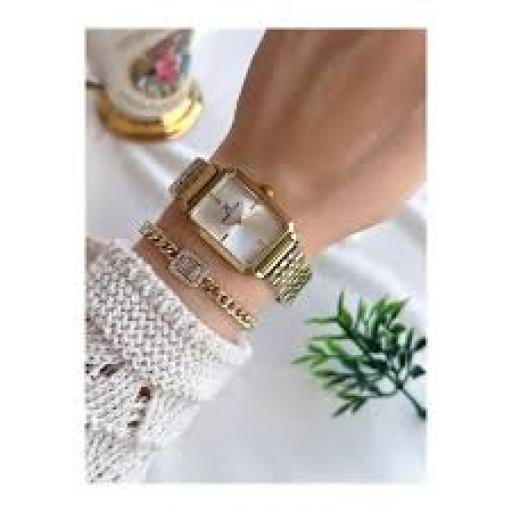KolSaati: (149, 144, 325, 308)
